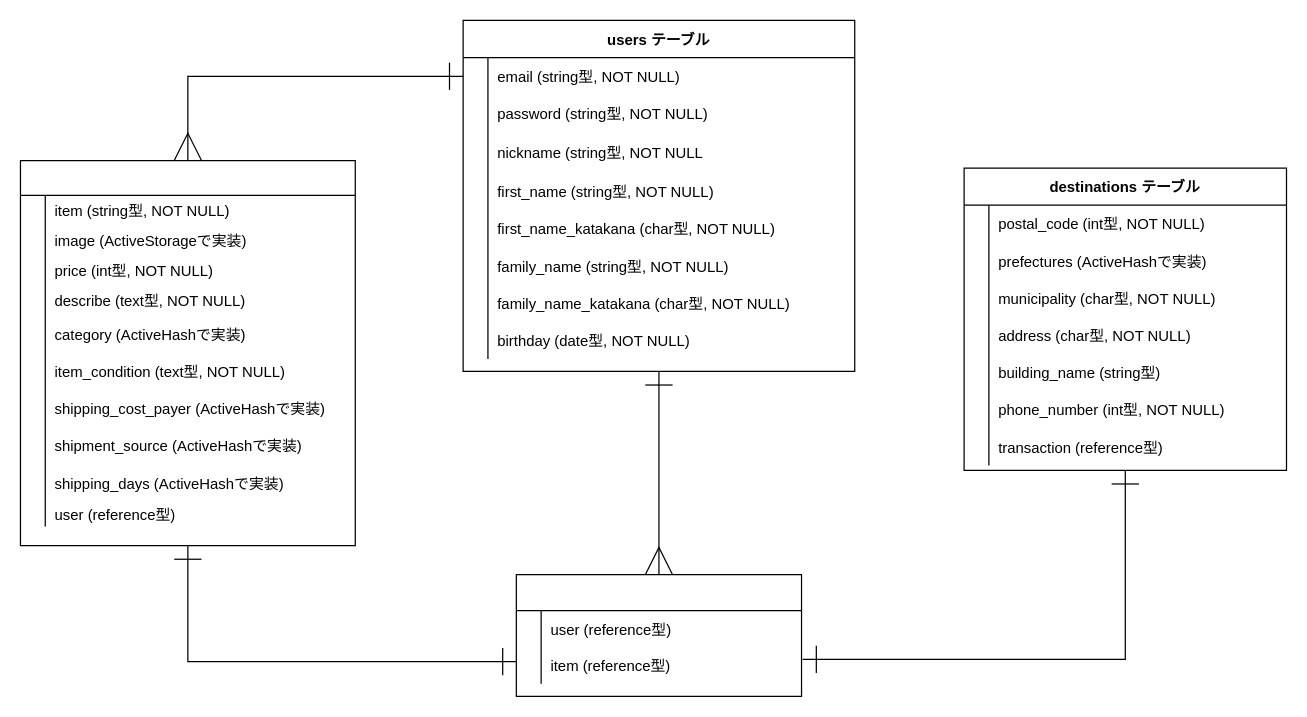
Image size: 1307x717. Some labels were removed from this diagram. The box of each missing label's shape, as (x1, y1, x2, y2) in pixels:
items テーブル: (19, 159, 355, 546)
transactions テーブル: (515, 574, 802, 696)
